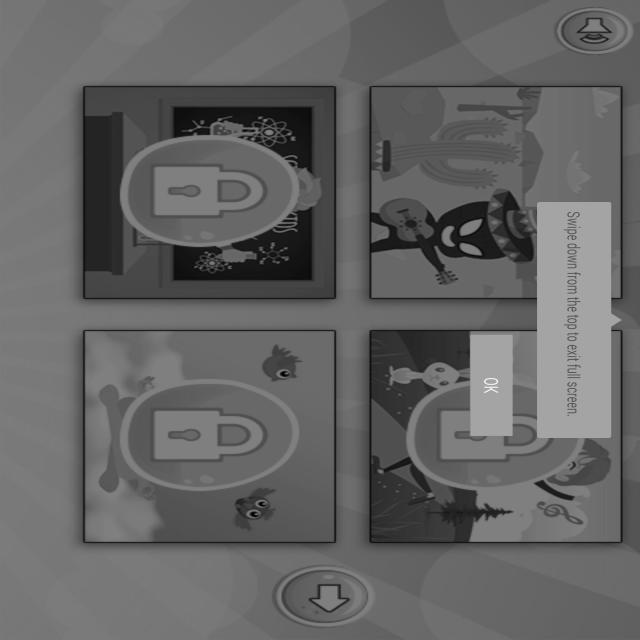Button: (463, 330, 522, 440)
ImageButton: (118, 135, 300, 249), (276, 567, 372, 623), (554, 7, 634, 55)
ImageView: (82, 331, 328, 538), (371, 86, 529, 295)
